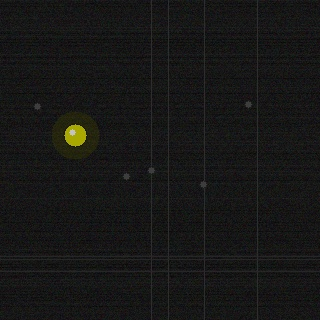yellow_warning: (62, 122, 88, 148)
